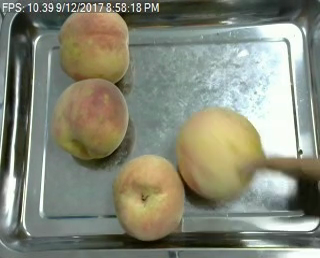Peach: (177, 105, 263, 202), (52, 76, 129, 160), (112, 155, 186, 242), (58, 4, 131, 84)
